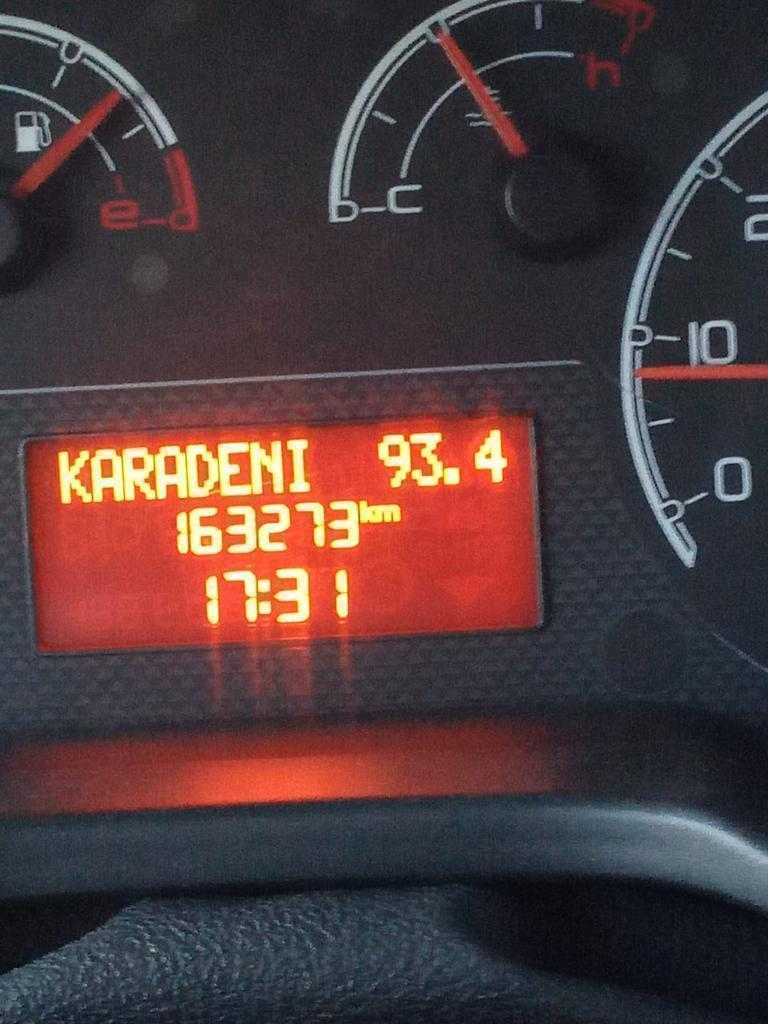,: (442, 463, 461, 488)
1: (328, 563, 352, 622), (200, 569, 220, 628), (172, 508, 189, 556)
2: (257, 501, 292, 553)
3: (272, 563, 312, 627), (410, 429, 442, 489), (223, 503, 256, 555), (328, 498, 358, 550)
4: (472, 425, 508, 486)
6: (189, 505, 222, 557)
7: (221, 568, 257, 626), (292, 500, 325, 550)
9: (374, 431, 410, 490)
X: (55, 445, 91, 507), (250, 437, 285, 495), (218, 438, 250, 499), (154, 443, 186, 502), (91, 445, 122, 505), (187, 441, 218, 500), (123, 445, 154, 503), (286, 435, 311, 495), (374, 501, 401, 524), (258, 576, 271, 618), (358, 497, 375, 526)
odometer: (10, 407, 555, 664)
